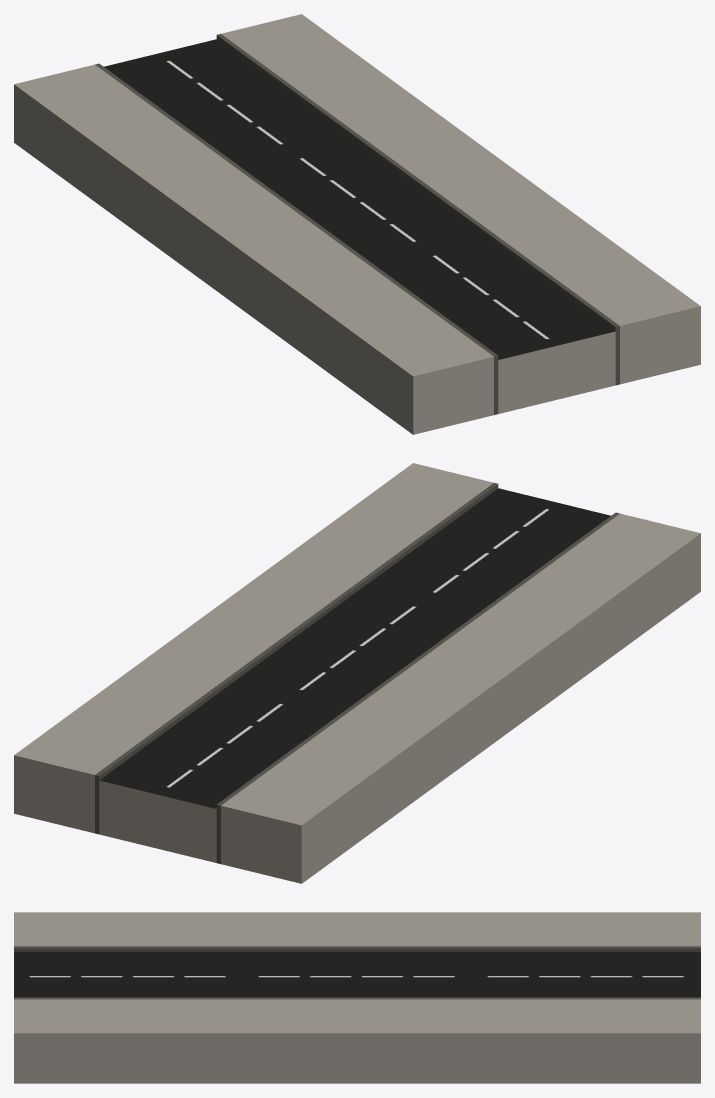
File: Road_Road12.fbx
3 renders of one model, top to bottom at view 1: azimuth 30°, elevation 25°; view 2: azimuth 150°, elevation 25°; view 3: azimuth 270°, elevation 25°, orthographic. The views are drawn at different scales.
Parts seen in each view (by area): view 1: Road_Road12; view 2: Road_Road12; view 3: Road_Road12.
Boxes of the visible parts, bbox=[...] form: Road_Road12: bbox=[14, 14, 700, 434]; Road_Road12: bbox=[14, 463, 700, 883]; Road_Road12: bbox=[14, 912, 700, 1083].
Size of the model in its own units: 1696 by 329 by 4076.
